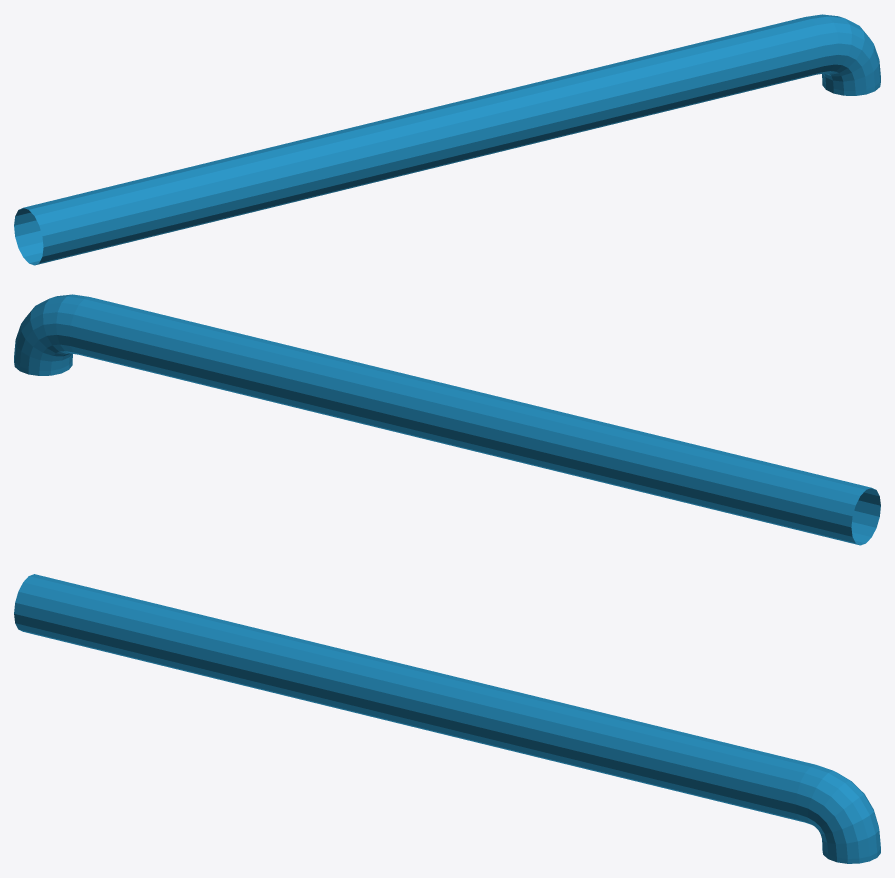
Rendered from cell_81.obj.
The picture shows the model from 3 angles, top to bottom: view 1: azimuth 30°, elevation 25°; view 2: azimuth 150°, elevation 25°; view 3: azimuth 330°, elevation 25°; orthographic projection.
Bounding box in the file's own units: 0.928 × 0.078 × 0.056.
